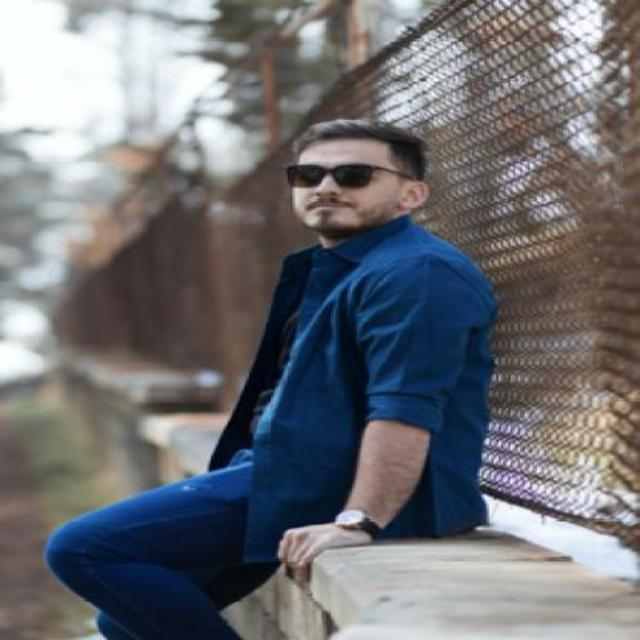glasses: (282, 163, 414, 189)
